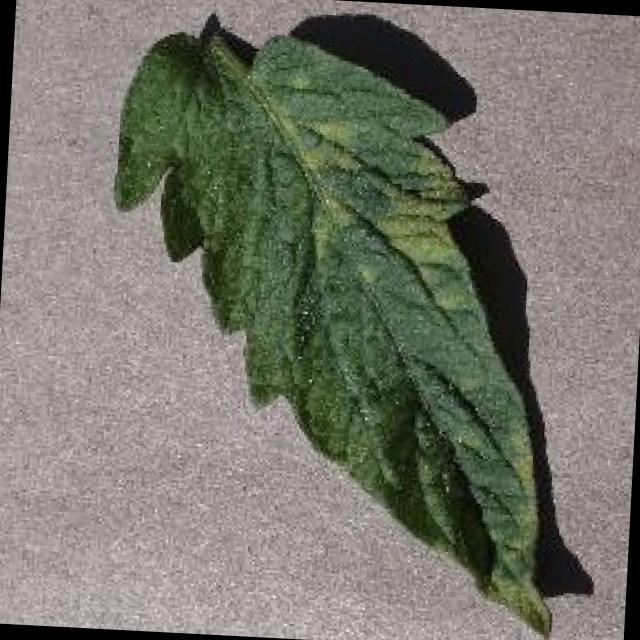Tomato mold leaf: (96, 29, 584, 640)
